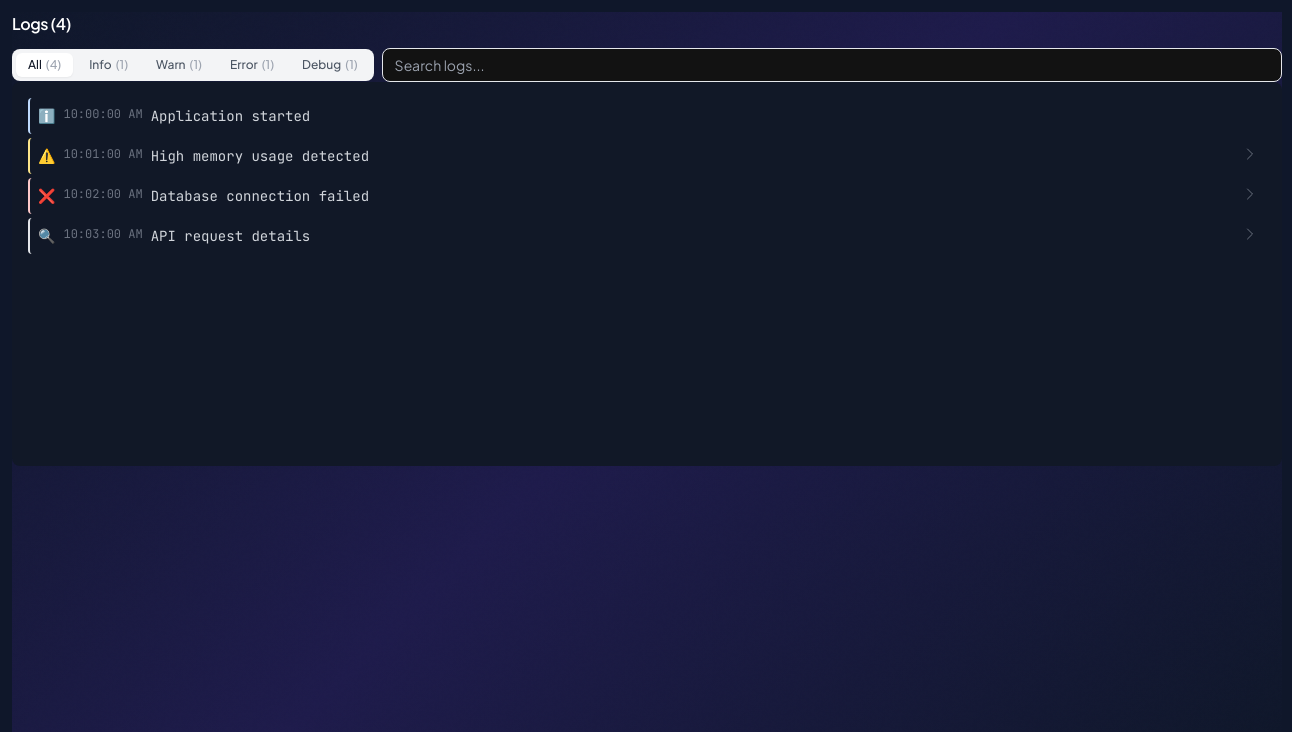
Test: LogViewer Component › Level Filtering › filters by error level
What coordinates should you click on to do the following:
click the button "Error(1)"
I would click on:
 (252, 65)
Its box is [218, 53, 286, 77].
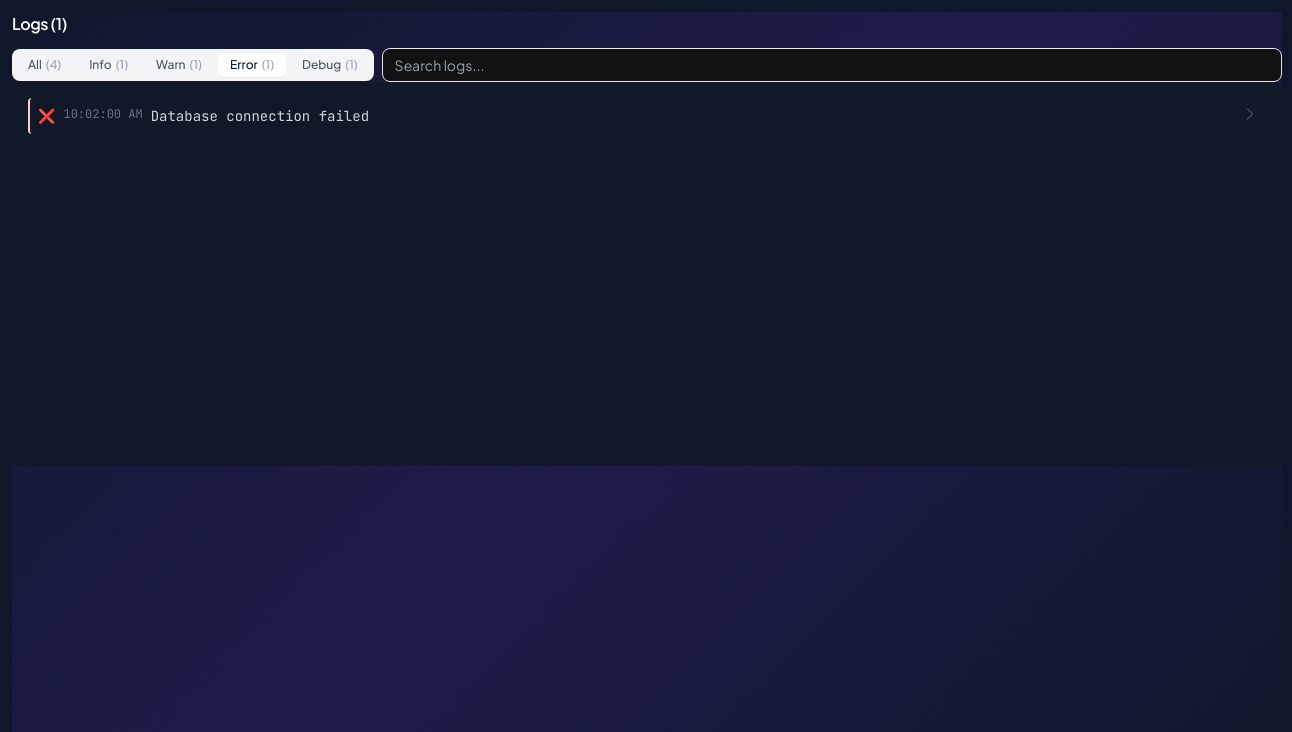
Result: the text "Database connection failed" is shown at [151, 107, 369, 125]
Result: the text "Application started" is gone
